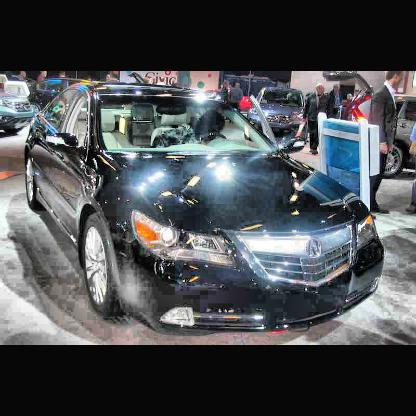Acura RL Sedan 2012: (24, 83, 388, 338)
